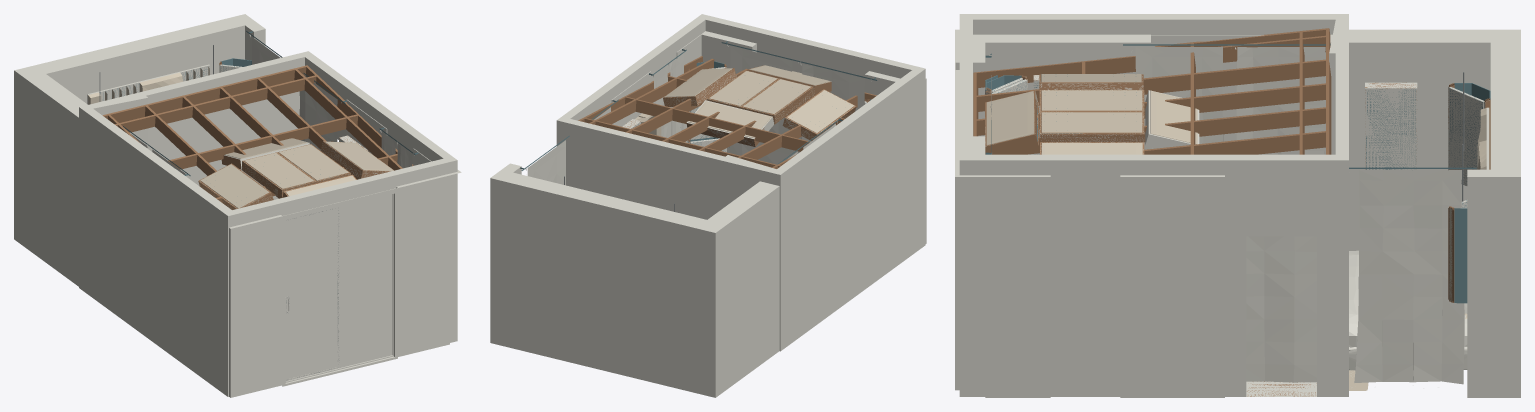
File: city-preview.glb
3 views of the same model, side by side, from view 1: azimuth 30°, elevation 25°; view 2: azimuth 150°, elevation 25°; view 3: azimuth 270°, elevation 25° (orthographic). The views are drawn at different scales.
Bounding box in the file's own units: 4.02 × 3.02 × 6.5.
